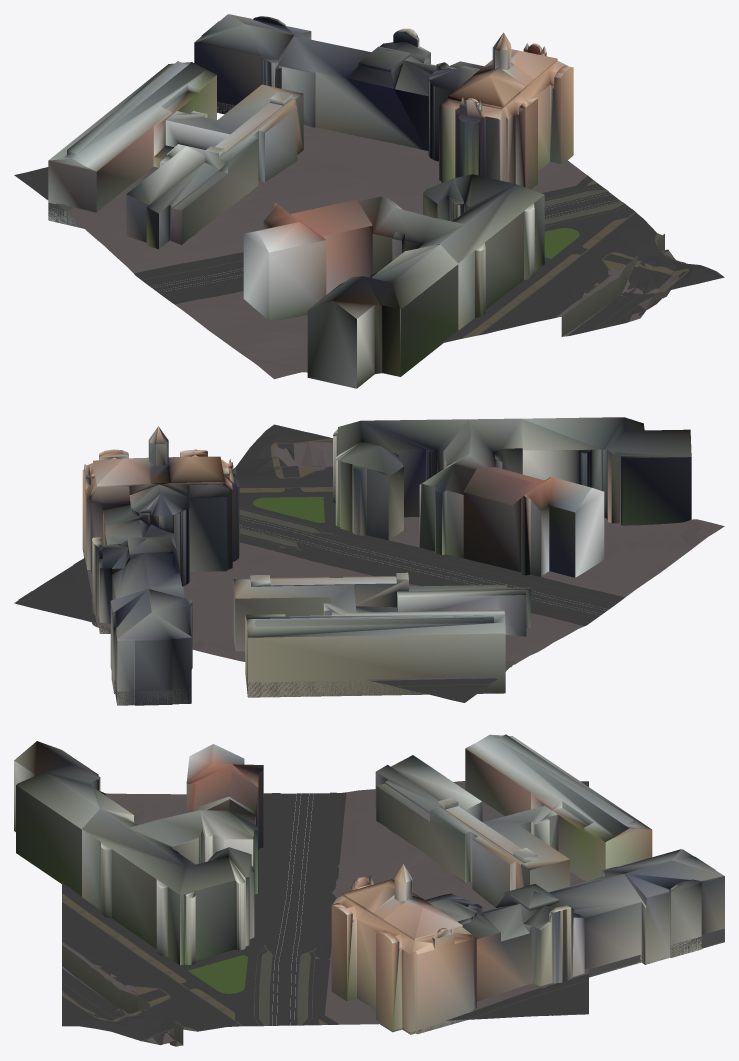
The picture shows the model from 3 angles, top to bottom: view 1: azimuth 30°, elevation 25°; view 2: azimuth 150°, elevation 25°; view 3: azimuth 270°, elevation 25°; orthographic projection.
Visible parts, largest first — view 1: c_m10_m02; view 2: c_m10_m02; view 3: c_m10_m02.
Part boxes in pixels (box(x1,y1,x2,y2)): c_m10_m02: box(14, 14, 724, 388); c_m10_m02: box(14, 417, 724, 705); c_m10_m02: box(14, 734, 724, 1046).
Bounding box in the file's own units: 134 × 42.69 × 173.
